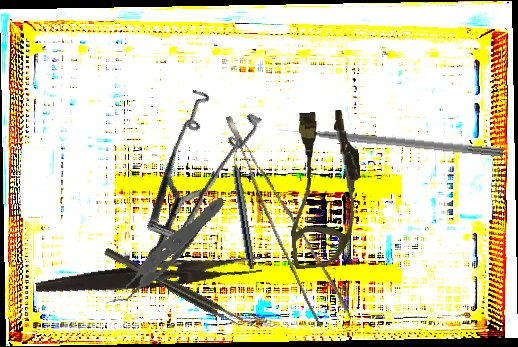Cannula: (280, 108, 369, 270)
Dressing Forceps: (34, 247, 263, 305)
Handpiece: (228, 147, 258, 270)
Pusher: (277, 122, 505, 158)
Speculum: (77, 67, 303, 278)
Tissue Forceps: (225, 101, 351, 332), (87, 195, 240, 306), (103, 243, 246, 330)
